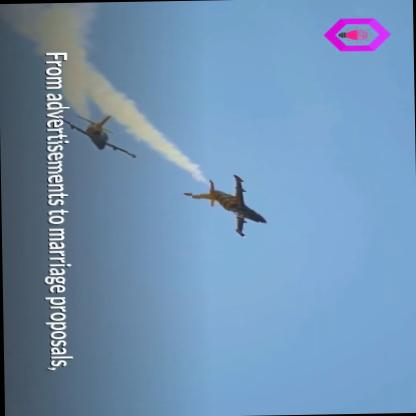plane: (56, 106, 140, 181), (191, 170, 266, 249)
